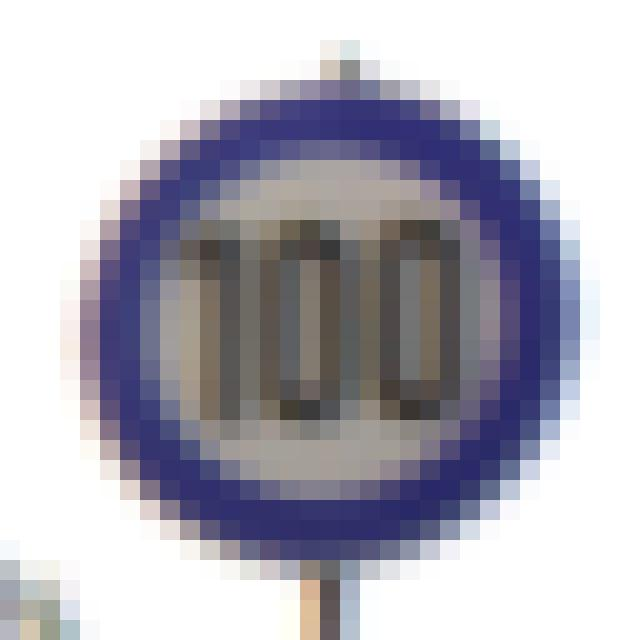SPEED LIMIT 100: (74, 80, 572, 566)
